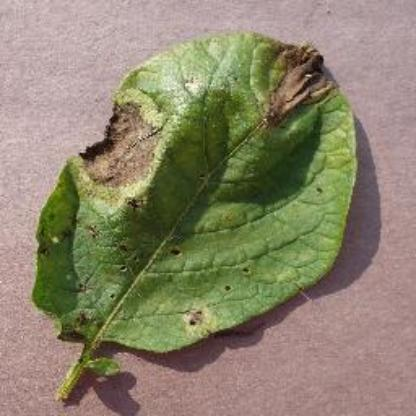Late-Blight: (20, 24, 366, 390)
